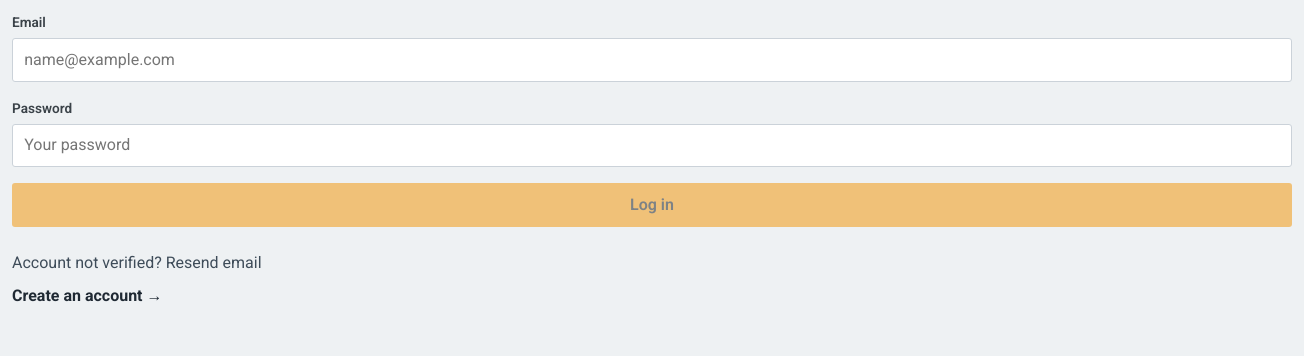
Scenario: LoginForm › resends verification for the entered email
Type "ana@example.com" into the field labelled "Email" at (652, 60), box top-left (12, 38), bottom-right (1292, 82)
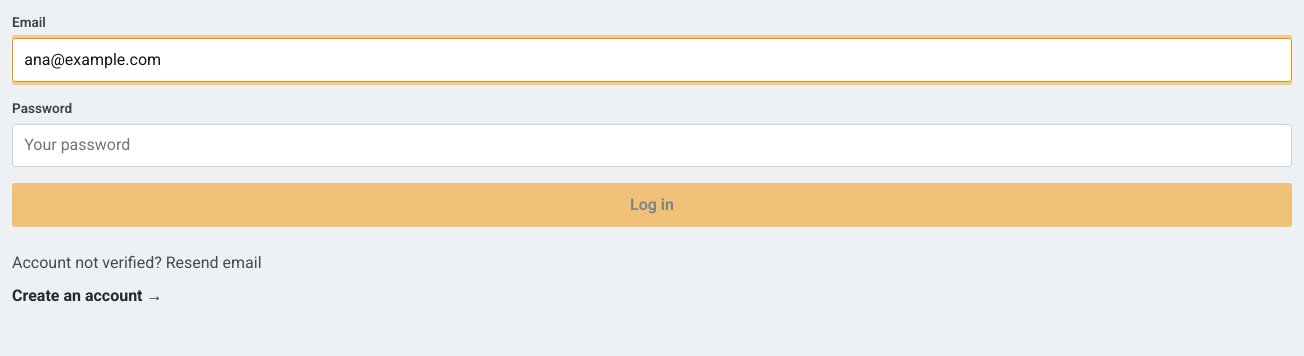
Click the button "Account not verified? Resend email" at (137, 262), box top-left (12, 251), bottom-right (1292, 275)
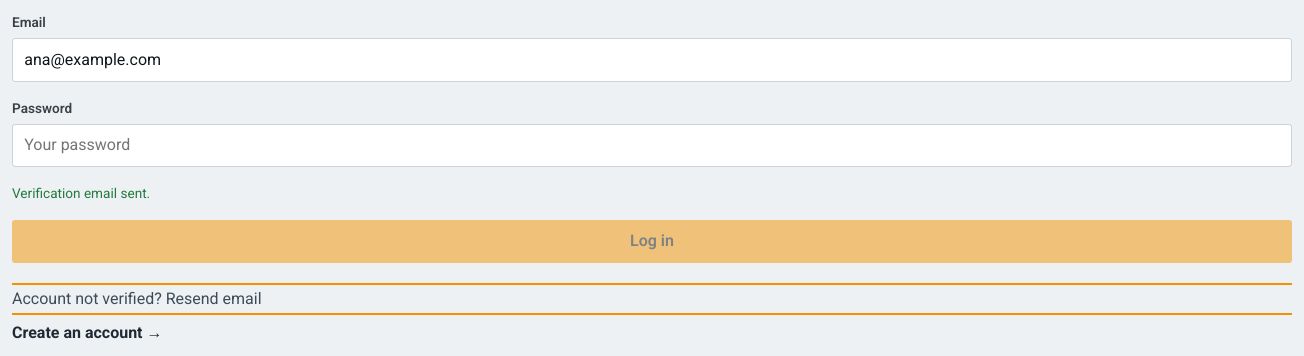
Expected: the text "Verification email sent." is shown, top-left (12, 185), bottom-right (150, 201)
